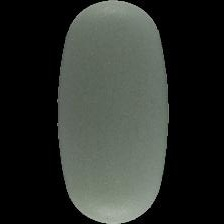0006-0080: (0, 0, 224, 224)
